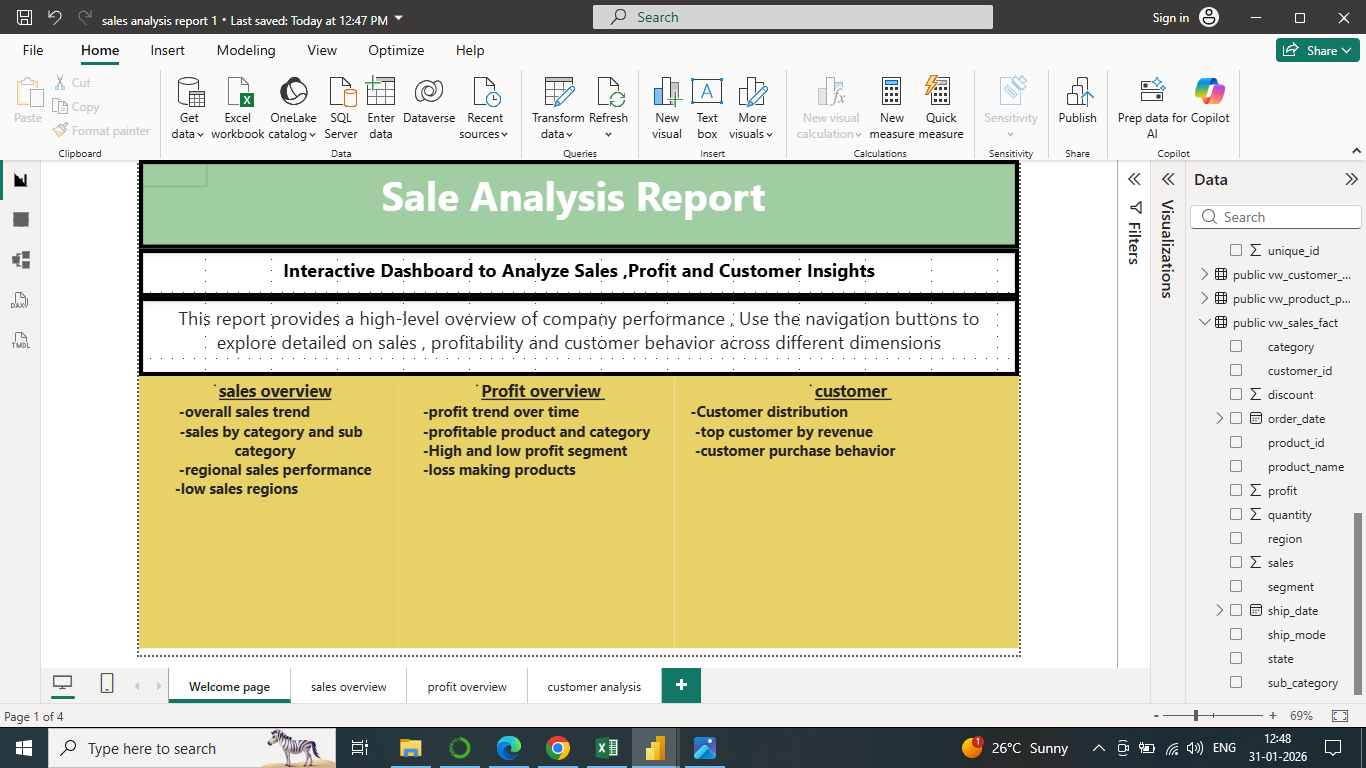

The page's visual inventory and layout, read from the dashboard file:
{"tool":"powerbi","page":{"name":"Welcome page","canvas":[1280,720],"ordinal":0},"visuals":[{"type":"actionButton","box":[0,0,100,40],"z":0},{"type":"textbox","box":[0,0,1280,129.5],"z":1000},{"type":"textbox","box":[0,129.5,1280,69.8],"z":2000},{"type":"textbox","box":[0,199.3,1280,114.9],"z":2001},{"type":"textbox","box":[0,314.2,378.2,395.6],"z":2002},{"type":"textbox","box":[378.2,314.2,401.5,395.6],"z":2003},{"type":"textbox","box":[779.6,314.2,500.4,395.6],"z":2004}]}

Visuals, with their boxes on the page's 1280x720 design canvas (x1, y1, x2, y2). These are canvas units, not pixel positions in the 1366x768 screenshot, which may show the page scaled, cropped or inside an application window:
actionButton: detection(0, 0, 100, 40)
textbox: detection(0, 0, 1280, 130)
textbox: detection(0, 130, 1280, 199)
textbox: detection(0, 199, 1280, 314)
textbox: detection(0, 314, 378, 710)
textbox: detection(378, 314, 780, 710)
textbox: detection(780, 314, 1280, 710)
